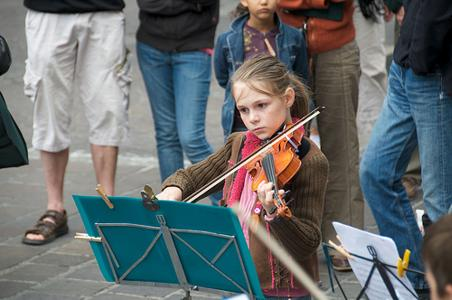person: (155, 53, 332, 300)
